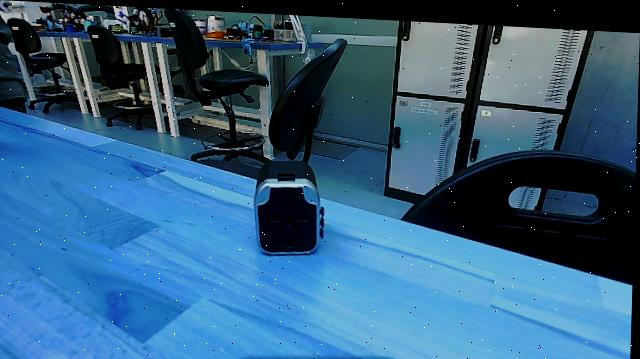adapter: (252, 154, 331, 256)
